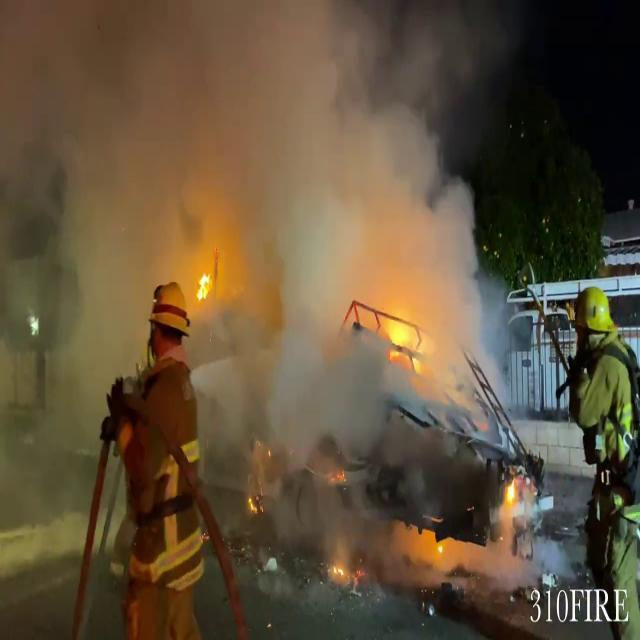Smoke: (0, 0, 508, 425)
